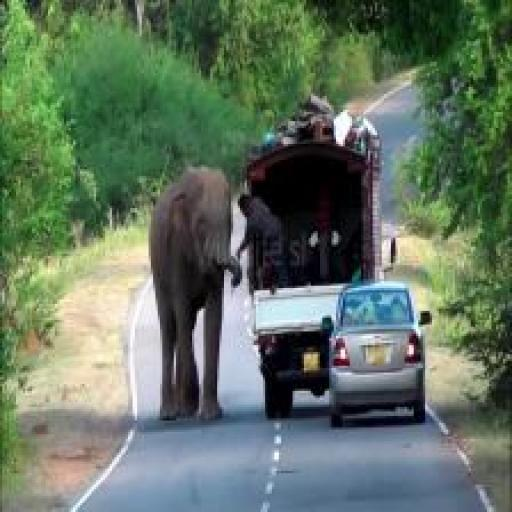Elephant: (139, 151, 255, 424)
